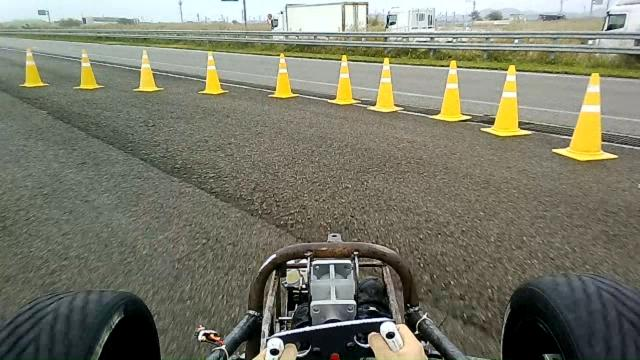yellow cone: (552, 72, 618, 161), (480, 64, 533, 137), (429, 59, 472, 122), (366, 56, 404, 113), (327, 54, 361, 105), (268, 52, 299, 99), (197, 50, 229, 95), (132, 49, 164, 92), (73, 48, 105, 90), (18, 47, 49, 88)
